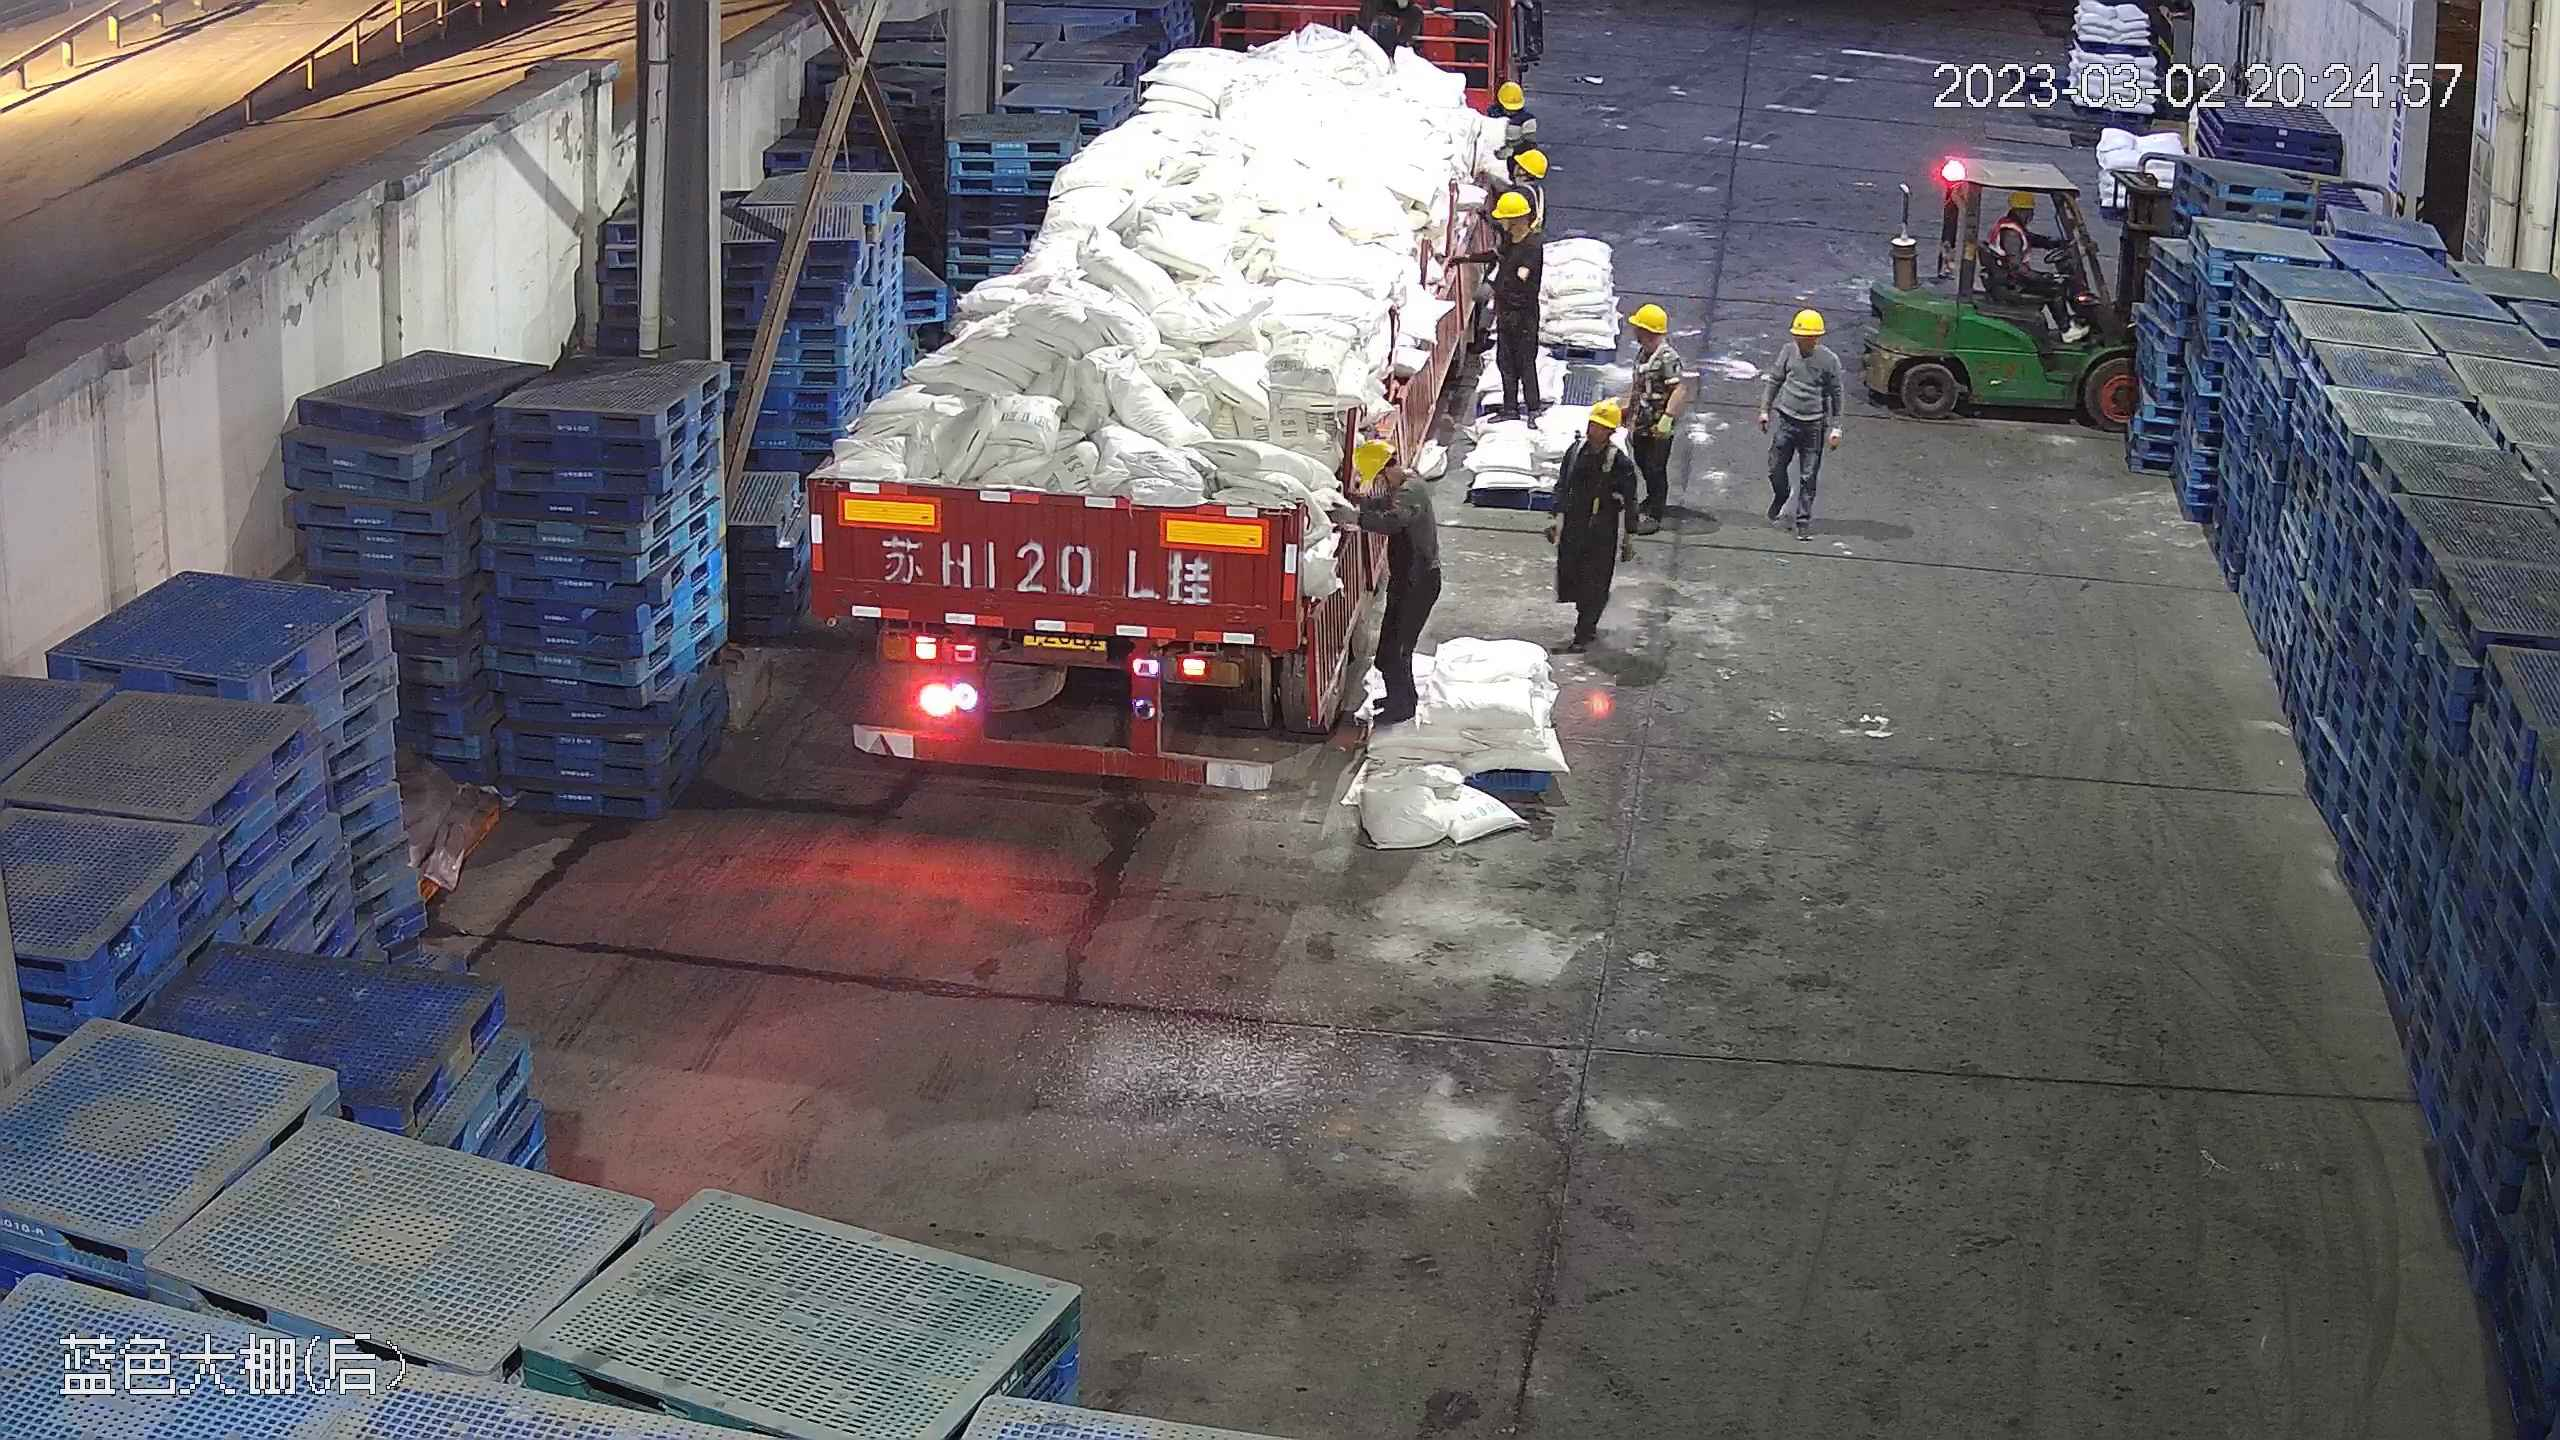belt: (1634, 326, 1681, 415), (1569, 432, 1622, 472), (1524, 177, 1549, 229)
head: (1347, 433, 1438, 531), (1766, 307, 1839, 387), (1558, 399, 1629, 480), (1484, 189, 1547, 264), (1624, 301, 1683, 379), (1996, 189, 2046, 245)
helmet: (1348, 433, 1395, 485), (1586, 394, 1627, 432), (1628, 302, 1669, 333), (1493, 191, 1533, 220), (1787, 306, 1825, 334), (1517, 146, 1549, 177), (1497, 80, 1525, 107), (2007, 188, 2037, 211)
people: (1341, 432, 1447, 731), (1546, 392, 1629, 653), (1758, 304, 1845, 535), (1616, 299, 1690, 533), (1480, 185, 1548, 425), (1990, 189, 2080, 317)
truck: (789, 8, 1516, 802)
